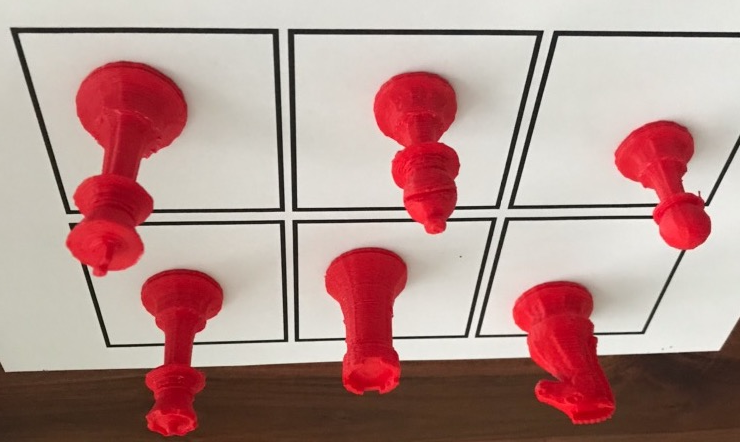Red Bishop: (362, 61, 482, 242)
Red Castle: (310, 241, 419, 405)
Red King: (47, 55, 199, 284)
Red Knight: (502, 273, 629, 436)
Red Pawn: (596, 98, 731, 264)
Red Queen: (129, 263, 226, 442)
